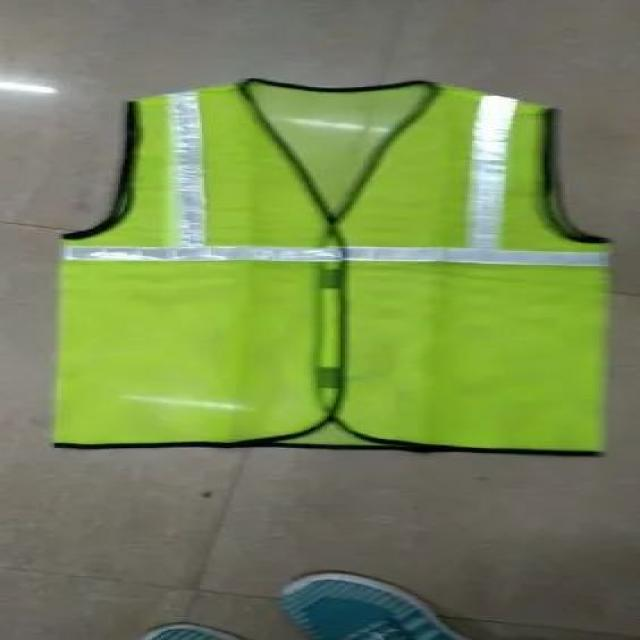Reflective-Jacket: (0, 69, 640, 463)
